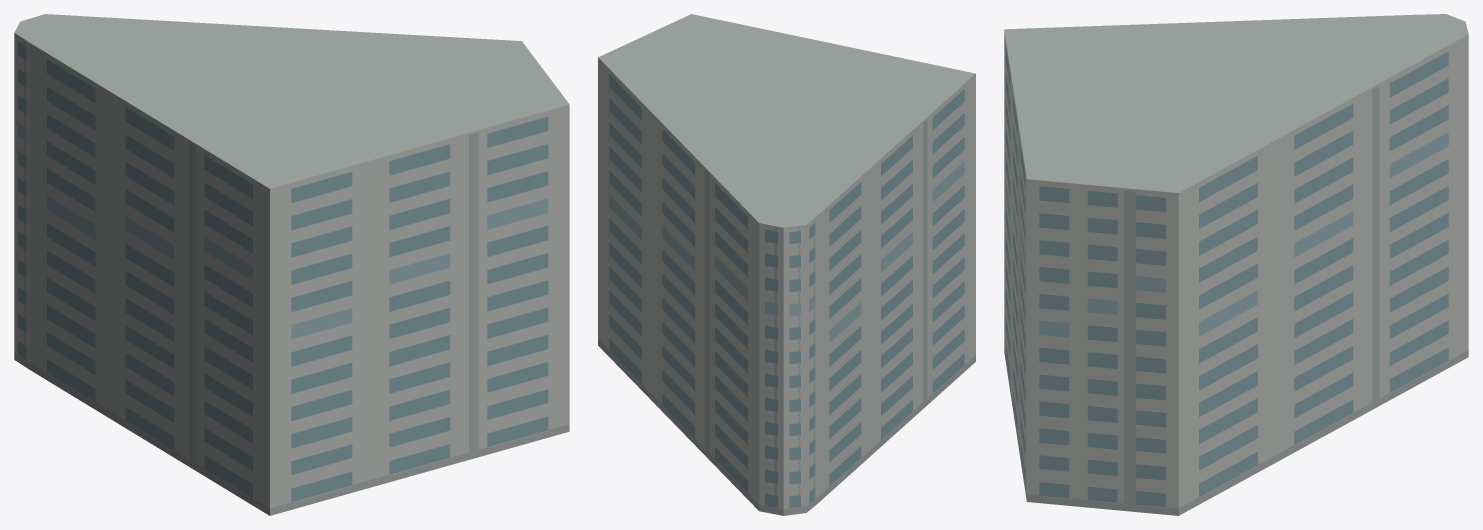
File: residential-04fe5c12-daf8-46b8-8b6d-f241c09c8478.glb
The picture shows the model from 3 angles, left to right: view 1: azimuth 30°, elevation 25°; view 2: azimuth 150°, elevation 25°; view 3: azimuth 270°, elevation 25°; orthographic projection. The views are drawn at different scales.
Parts seen in each view (by area): view 1: residential-04fe5c12-daf8-46b8-8b6d-f241c09c8478.tmp; view 2: residential-04fe5c12-daf8-46b8-8b6d-f241c09c8478.tmp; view 3: residential-04fe5c12-daf8-46b8-8b6d-f241c09c8478.tmp.
Part boxes in pixels (x1,y1,x2,y2): residential-04fe5c12-daf8-46b8-8b6d-f241c09c8478.tmp: [14, 14, 569, 515]; residential-04fe5c12-daf8-46b8-8b6d-f241c09c8478.tmp: [598, 14, 975, 515]; residential-04fe5c12-daf8-46b8-8b6d-f241c09c8478.tmp: [1004, 14, 1468, 515].
Size of the model in its own units: 44.05 by 37 by 48.26.
